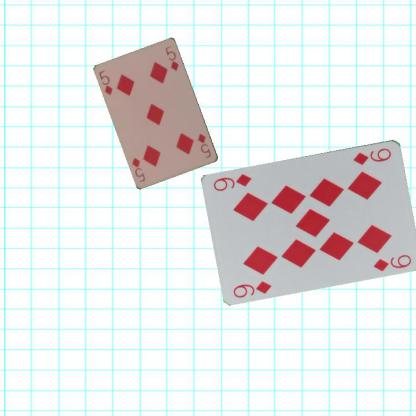5d: (195, 131, 213, 160), (96, 68, 114, 97)
9d: (351, 145, 393, 166), (230, 278, 272, 299)
